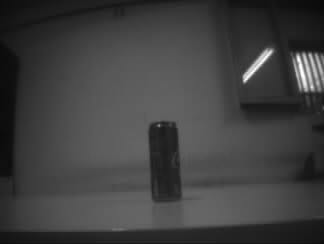Tin can: (148, 121, 182, 203)
